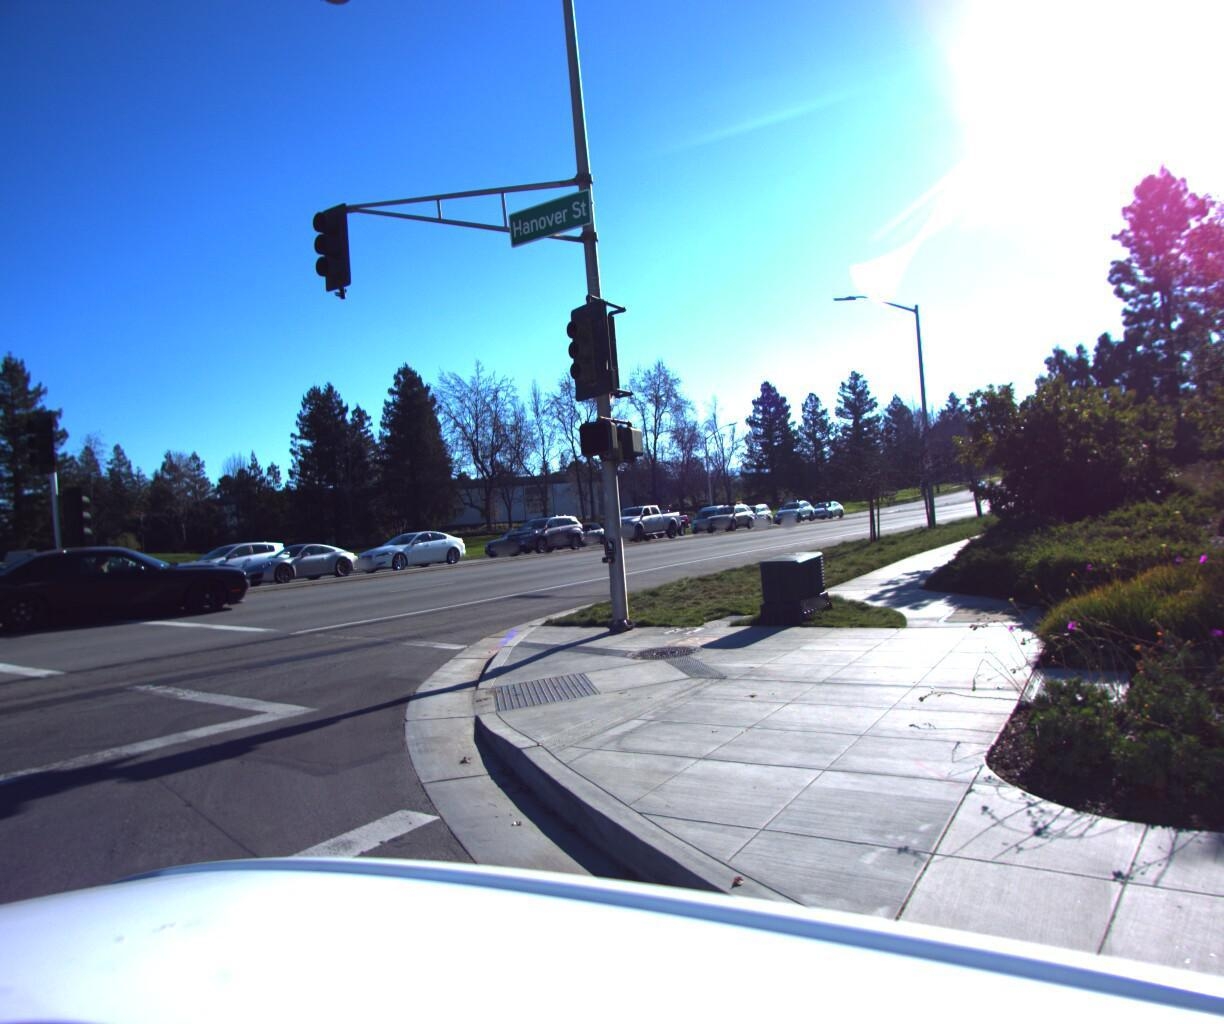car: (0, 524, 265, 634), (159, 532, 302, 588), (218, 532, 365, 583), (345, 520, 477, 569), (491, 505, 588, 551), (593, 499, 685, 540), (0, 550, 40, 624), (474, 519, 560, 552), (547, 516, 617, 544), (697, 494, 756, 528), (680, 497, 733, 527), (770, 494, 814, 519)
